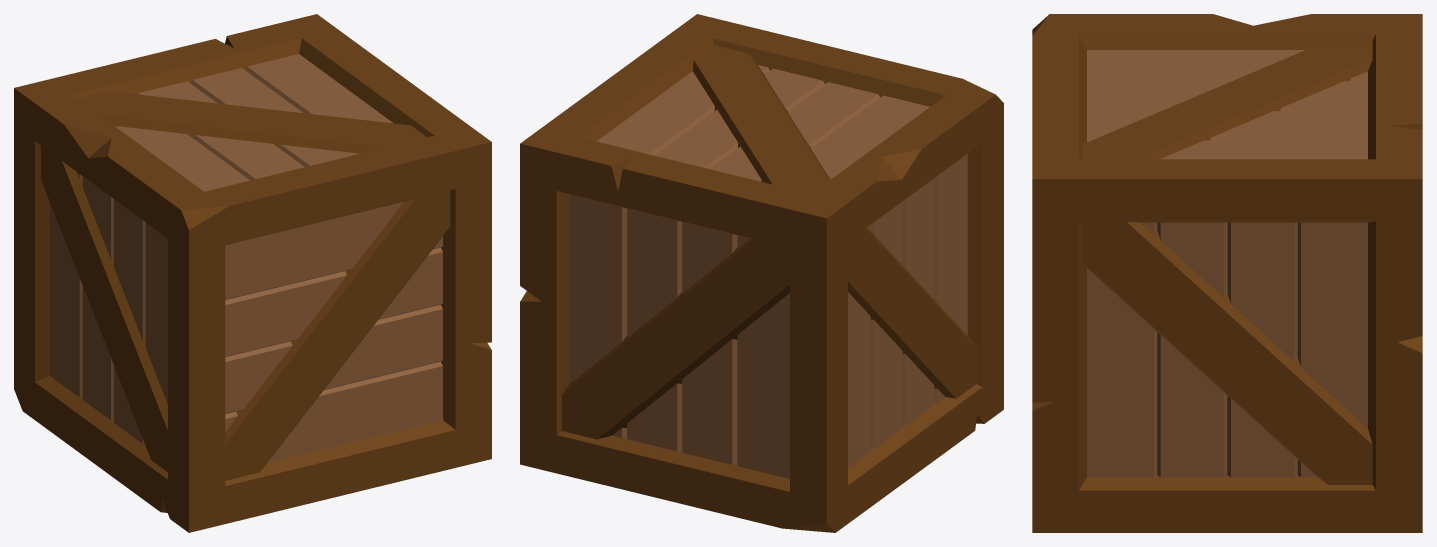
The model's file is Crate.fbx.
The picture shows the model from 3 angles, left to right: view 1: azimuth 30°, elevation 25°; view 2: azimuth 150°, elevation 25°; view 3: azimuth 270°, elevation 25°; orthographic projection. The views are drawn at different scales.
Visible parts, largest first — view 1: Crate; view 2: Crate; view 3: Crate.
Boxes of the visible parts, x1,y1,x2,y2 form: Crate: (14,14,491,532); Crate: (520,14,1003,532); Crate: (1032,14,1422,532).
Size of the model in its own units: 100 by 100 by 100.
